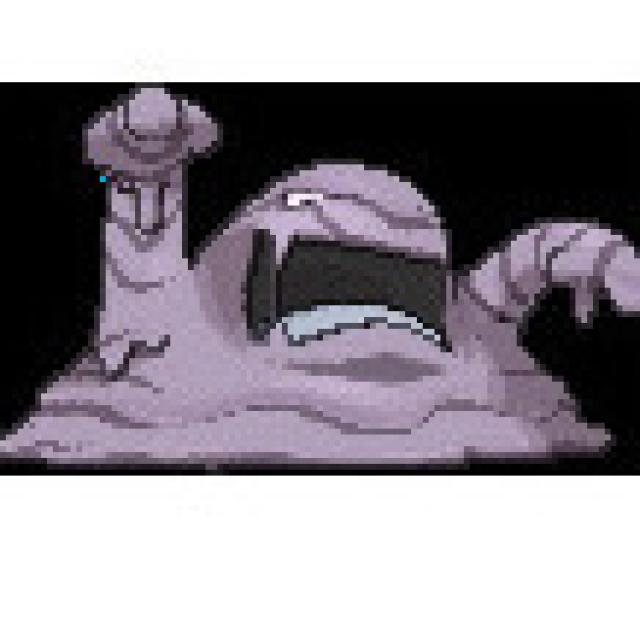Muk: (78, 162, 558, 479)
